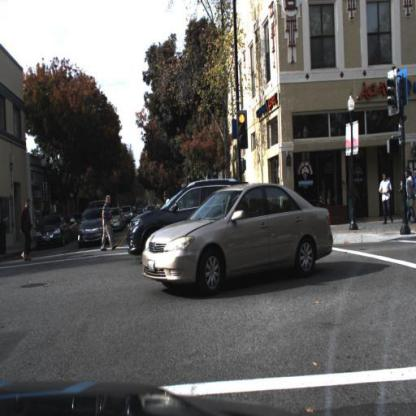car: (141, 183, 335, 290), (126, 178, 203, 263), (77, 207, 115, 251), (38, 216, 70, 248)
pedestrian: (102, 195, 117, 253), (21, 198, 34, 262), (382, 168, 394, 228), (406, 170, 416, 223)
trafficLight: (238, 111, 250, 148)
